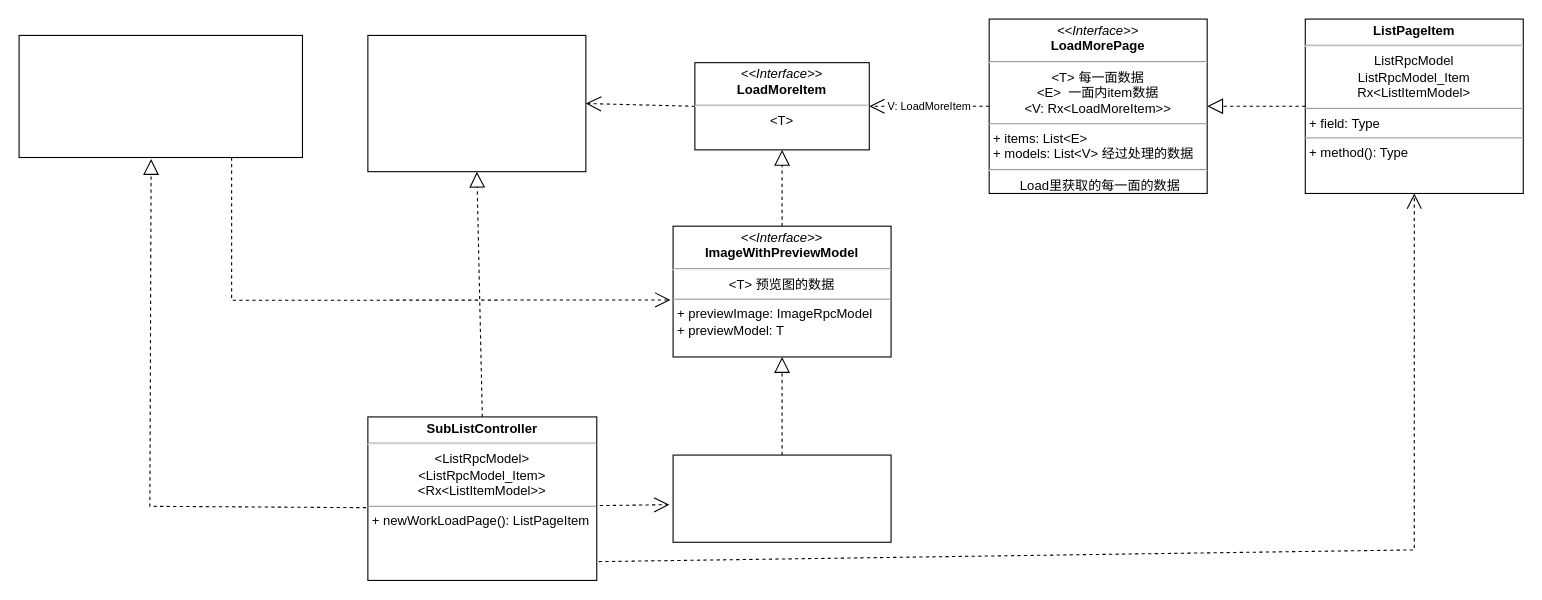
This 1542x600 diagram has some shape labels left out. The centre of each missing label's shape, as x and y in pixels:
"<<Interface>> LoadMoreLoader <T> <E> <V: Rx<LoadMoreItem<E>>> 加载数据逻辑位置" goes at pixel 476 103.
"<<Interface>> ReaderInfo <T> <V: ImageWithPreviewModel<T>?> + items: Iterable<V>" goes at pixel 160 96.
"ListItemModel ListRpcModel_Item + previewModel: ListRpcModel_Item" goes at pixel 781 498.
